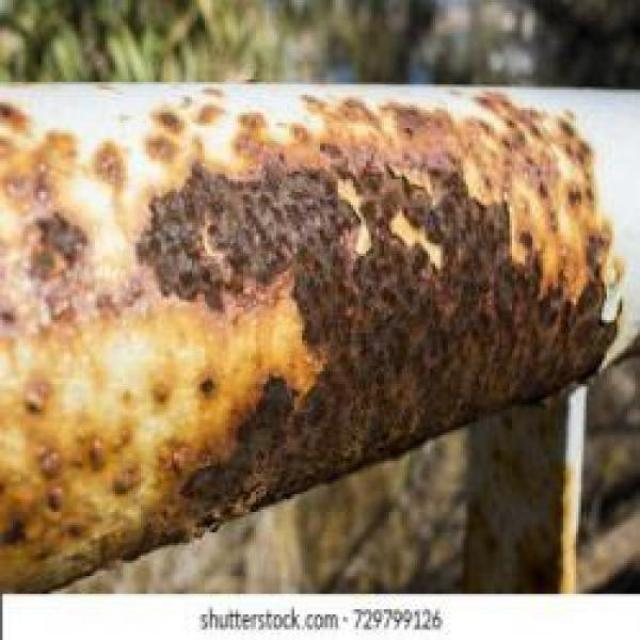corrosion: (0, 85, 624, 590)
